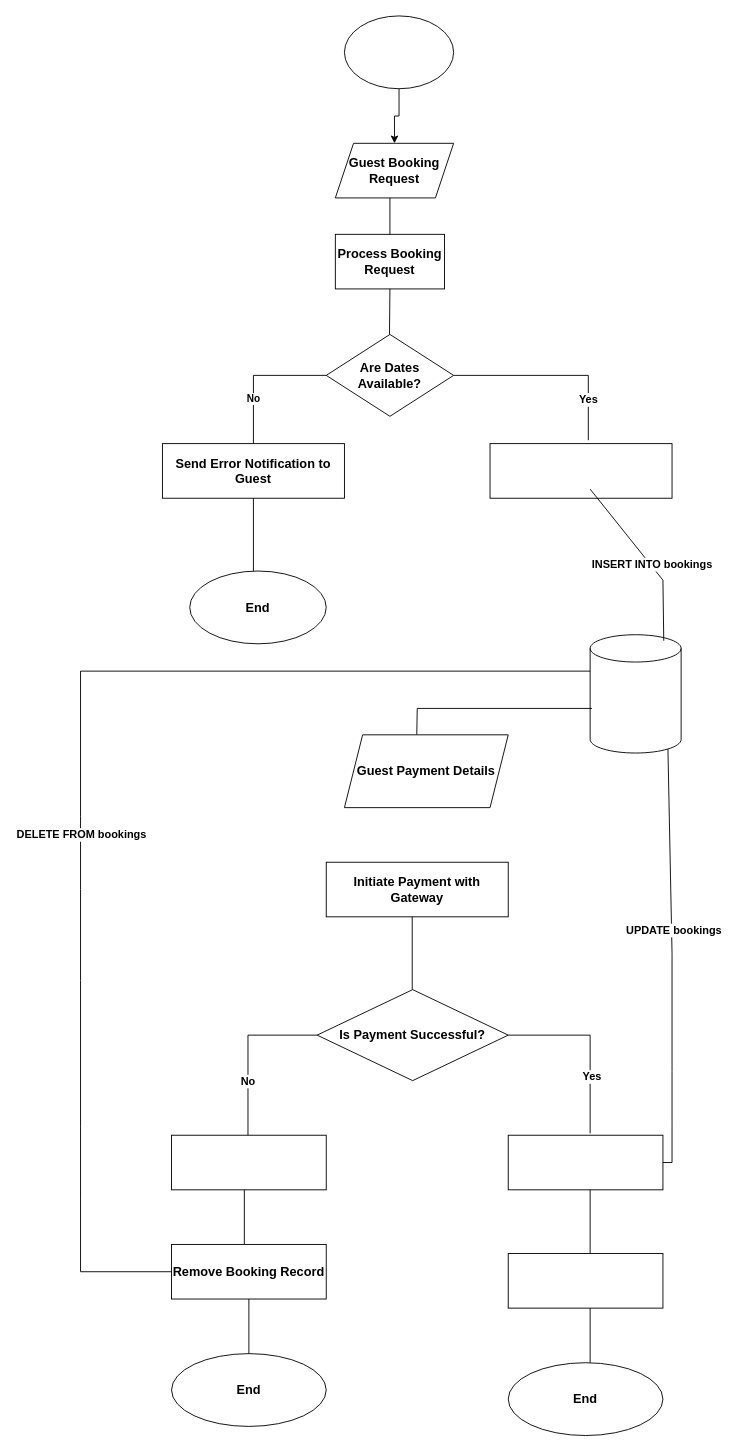
This 737x1451 diagram has some shape labels left out. Each missing label, with the box of its shape:
Bookings Table: (589, 634, 681, 753)
Generate New Booking Record: (489, 443, 672, 498)
Notify Guest & Host of Confirmation: (507, 1253, 663, 1308)
Notify Guest of Failure: (171, 1134, 326, 1190)
Start: (344, 15, 454, 89)
Update Booking Status to 'Confirmed': (507, 1134, 663, 1190)
